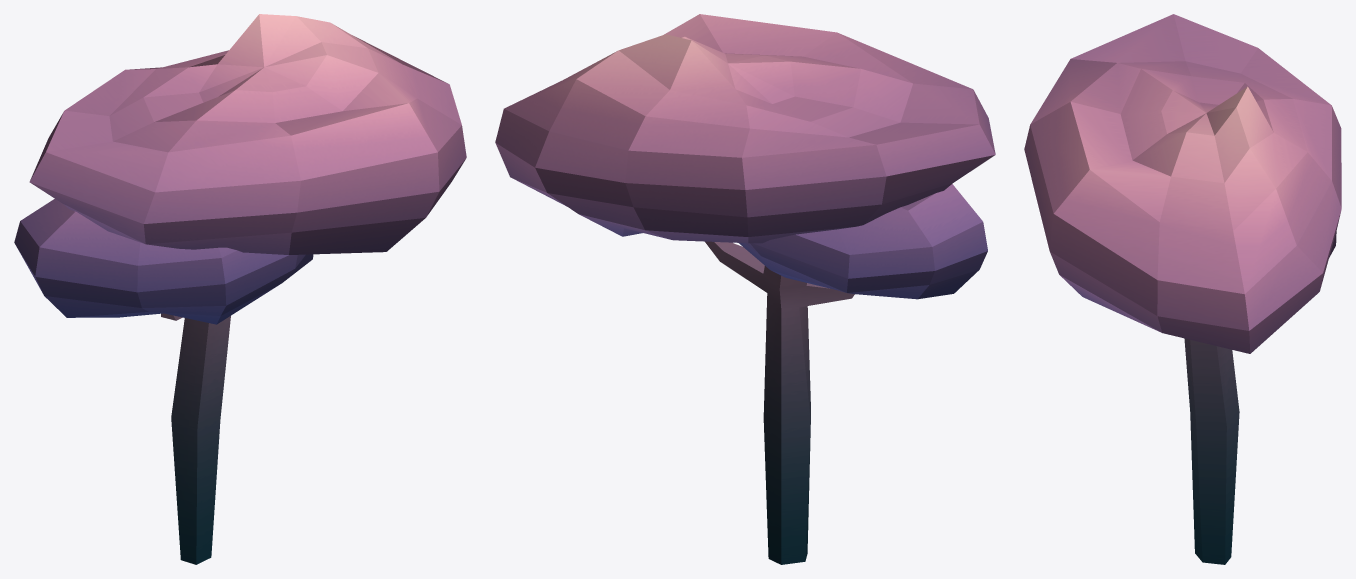
File: tree_3.fbx
3 views of the same model, side by side, from view 1: azimuth 30°, elevation 25°; view 2: azimuth 150°, elevation 25°; view 3: azimuth 270°, elevation 25° (orthographic).
Parts seen in each view (by area): view 1: pSphere7; view 2: pSphere7; view 3: pSphere7.
Boxes of the visible parts, left/top/right/bottom form: pSphere7: left=14, top=14, right=466, bottom=564; pSphere7: left=495, top=14, right=995, bottom=564; pSphere7: left=1024, top=14, right=1341, bottom=564.
Bounding box in the file's own units: 3.83 × 4.03 × 2.27.
1 material, 1 textured.
